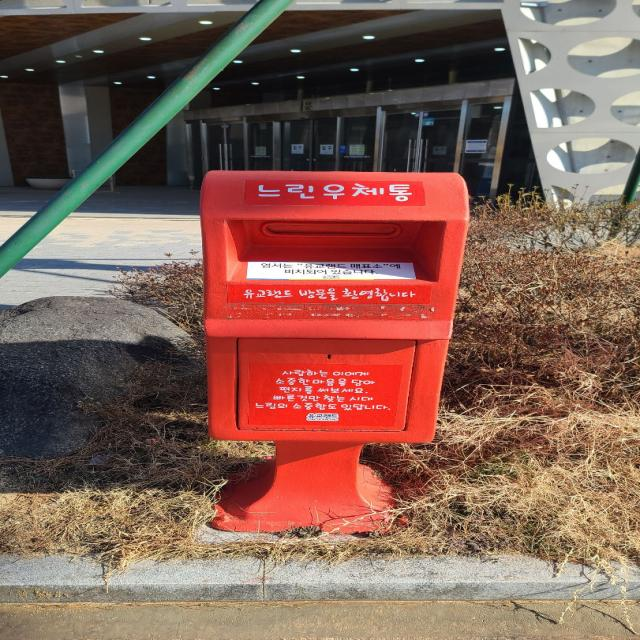Post Box: (196, 170, 474, 532)
